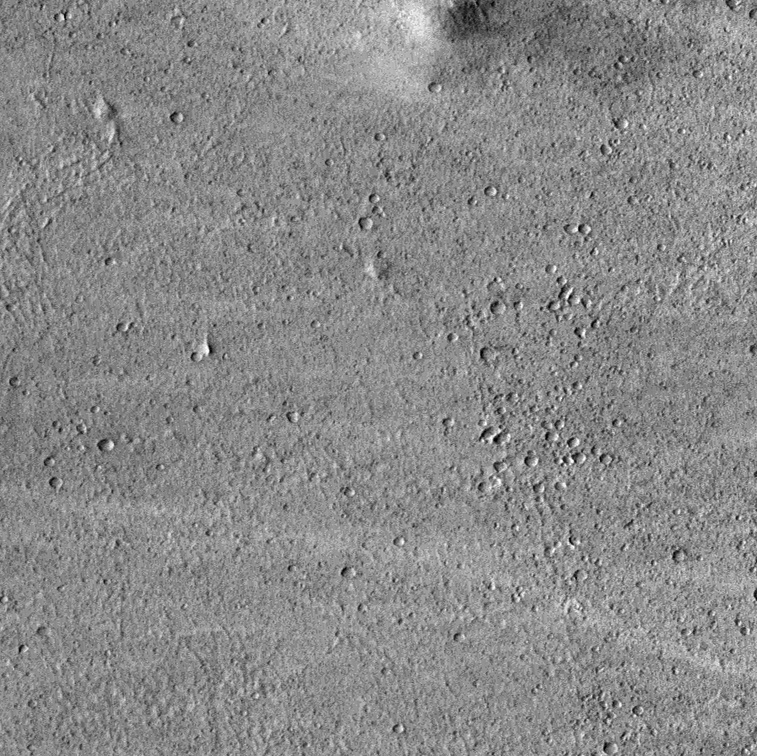dust_devil: (405, 1, 509, 46)
